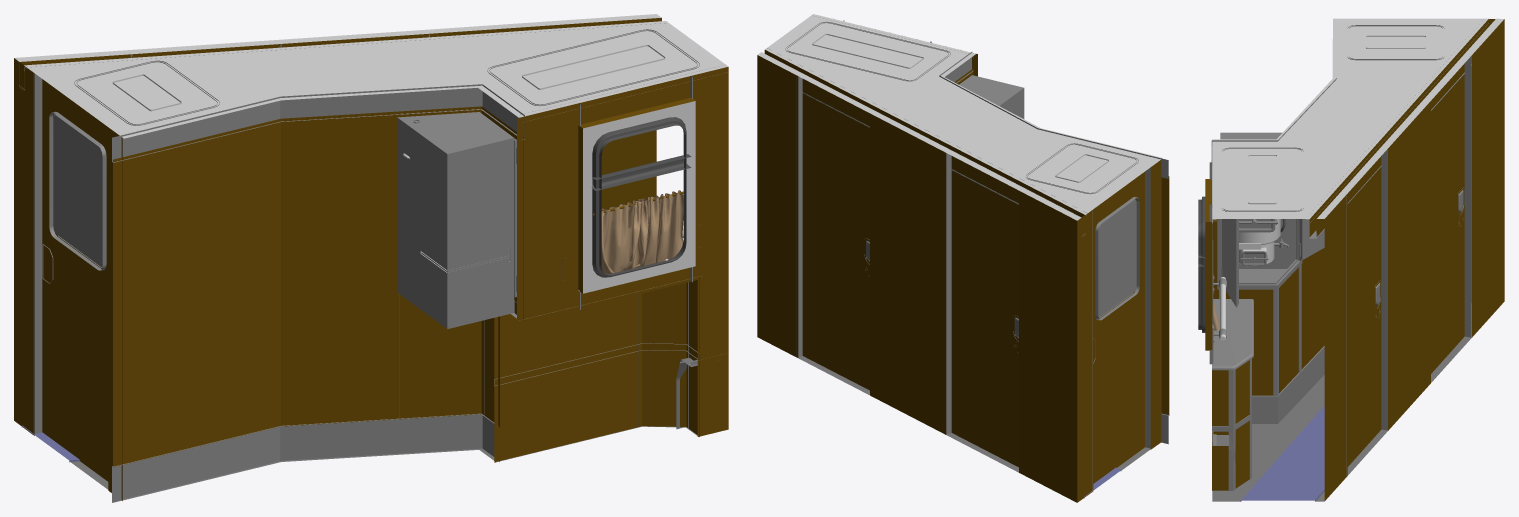
The model's file is SM_train_2.fbx.
3 renders of one model, left to right at view 1: azimuth 30°, elevation 25°; view 2: azimuth 150°, elevation 25°; view 3: azimuth 270°, elevation 25°, orthographic. The views are drawn at different scales.
Visible parts, largest first — view 1: SM_train_1_main, SM_train_curtain, SM_train_1_lights; view 2: SM_train_1_main, SM_train_1_lights; view 3: SM_train_1_main, SM_train_1_lights.
Boxes of the visible parts, left/top/right/bottom form: SM_train_1_main: left=14, top=14, right=728, bottom=502; SM_train_curtain: left=601, top=190, right=683, bottom=273; SM_train_1_lights: left=74, top=29, right=699, bottom=125; SM_train_1_main: left=757, top=14, right=1169, bottom=502; SM_train_1_lights: left=785, top=21, right=1138, bottom=194; SM_train_1_main: left=1198, top=18, right=1504, bottom=501; SM_train_1_lights: left=1222, top=25, right=1444, bottom=211.
Size of the model in its own units: 351 by 229 by 223.
